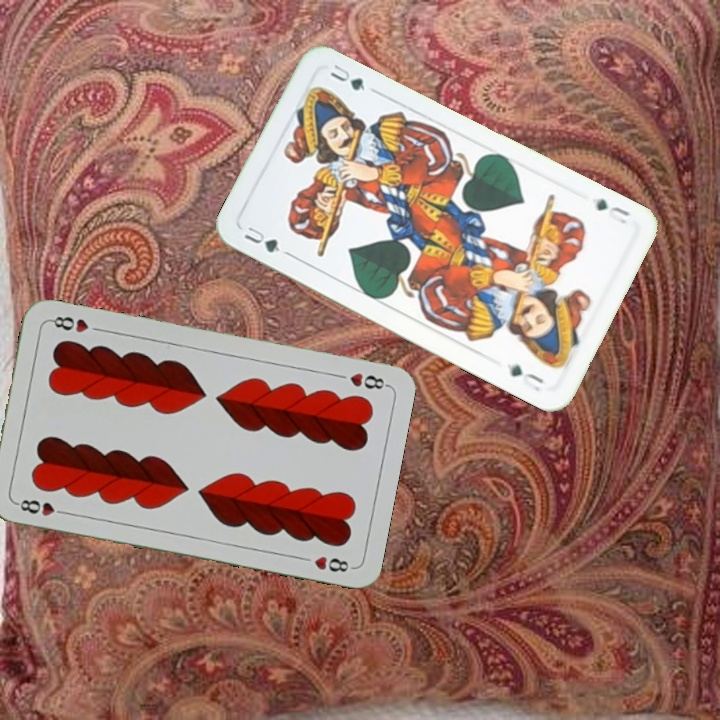GU: (240, 222, 284, 256), (592, 194, 633, 227)
H8: (331, 368, 390, 392), (12, 495, 70, 519)
